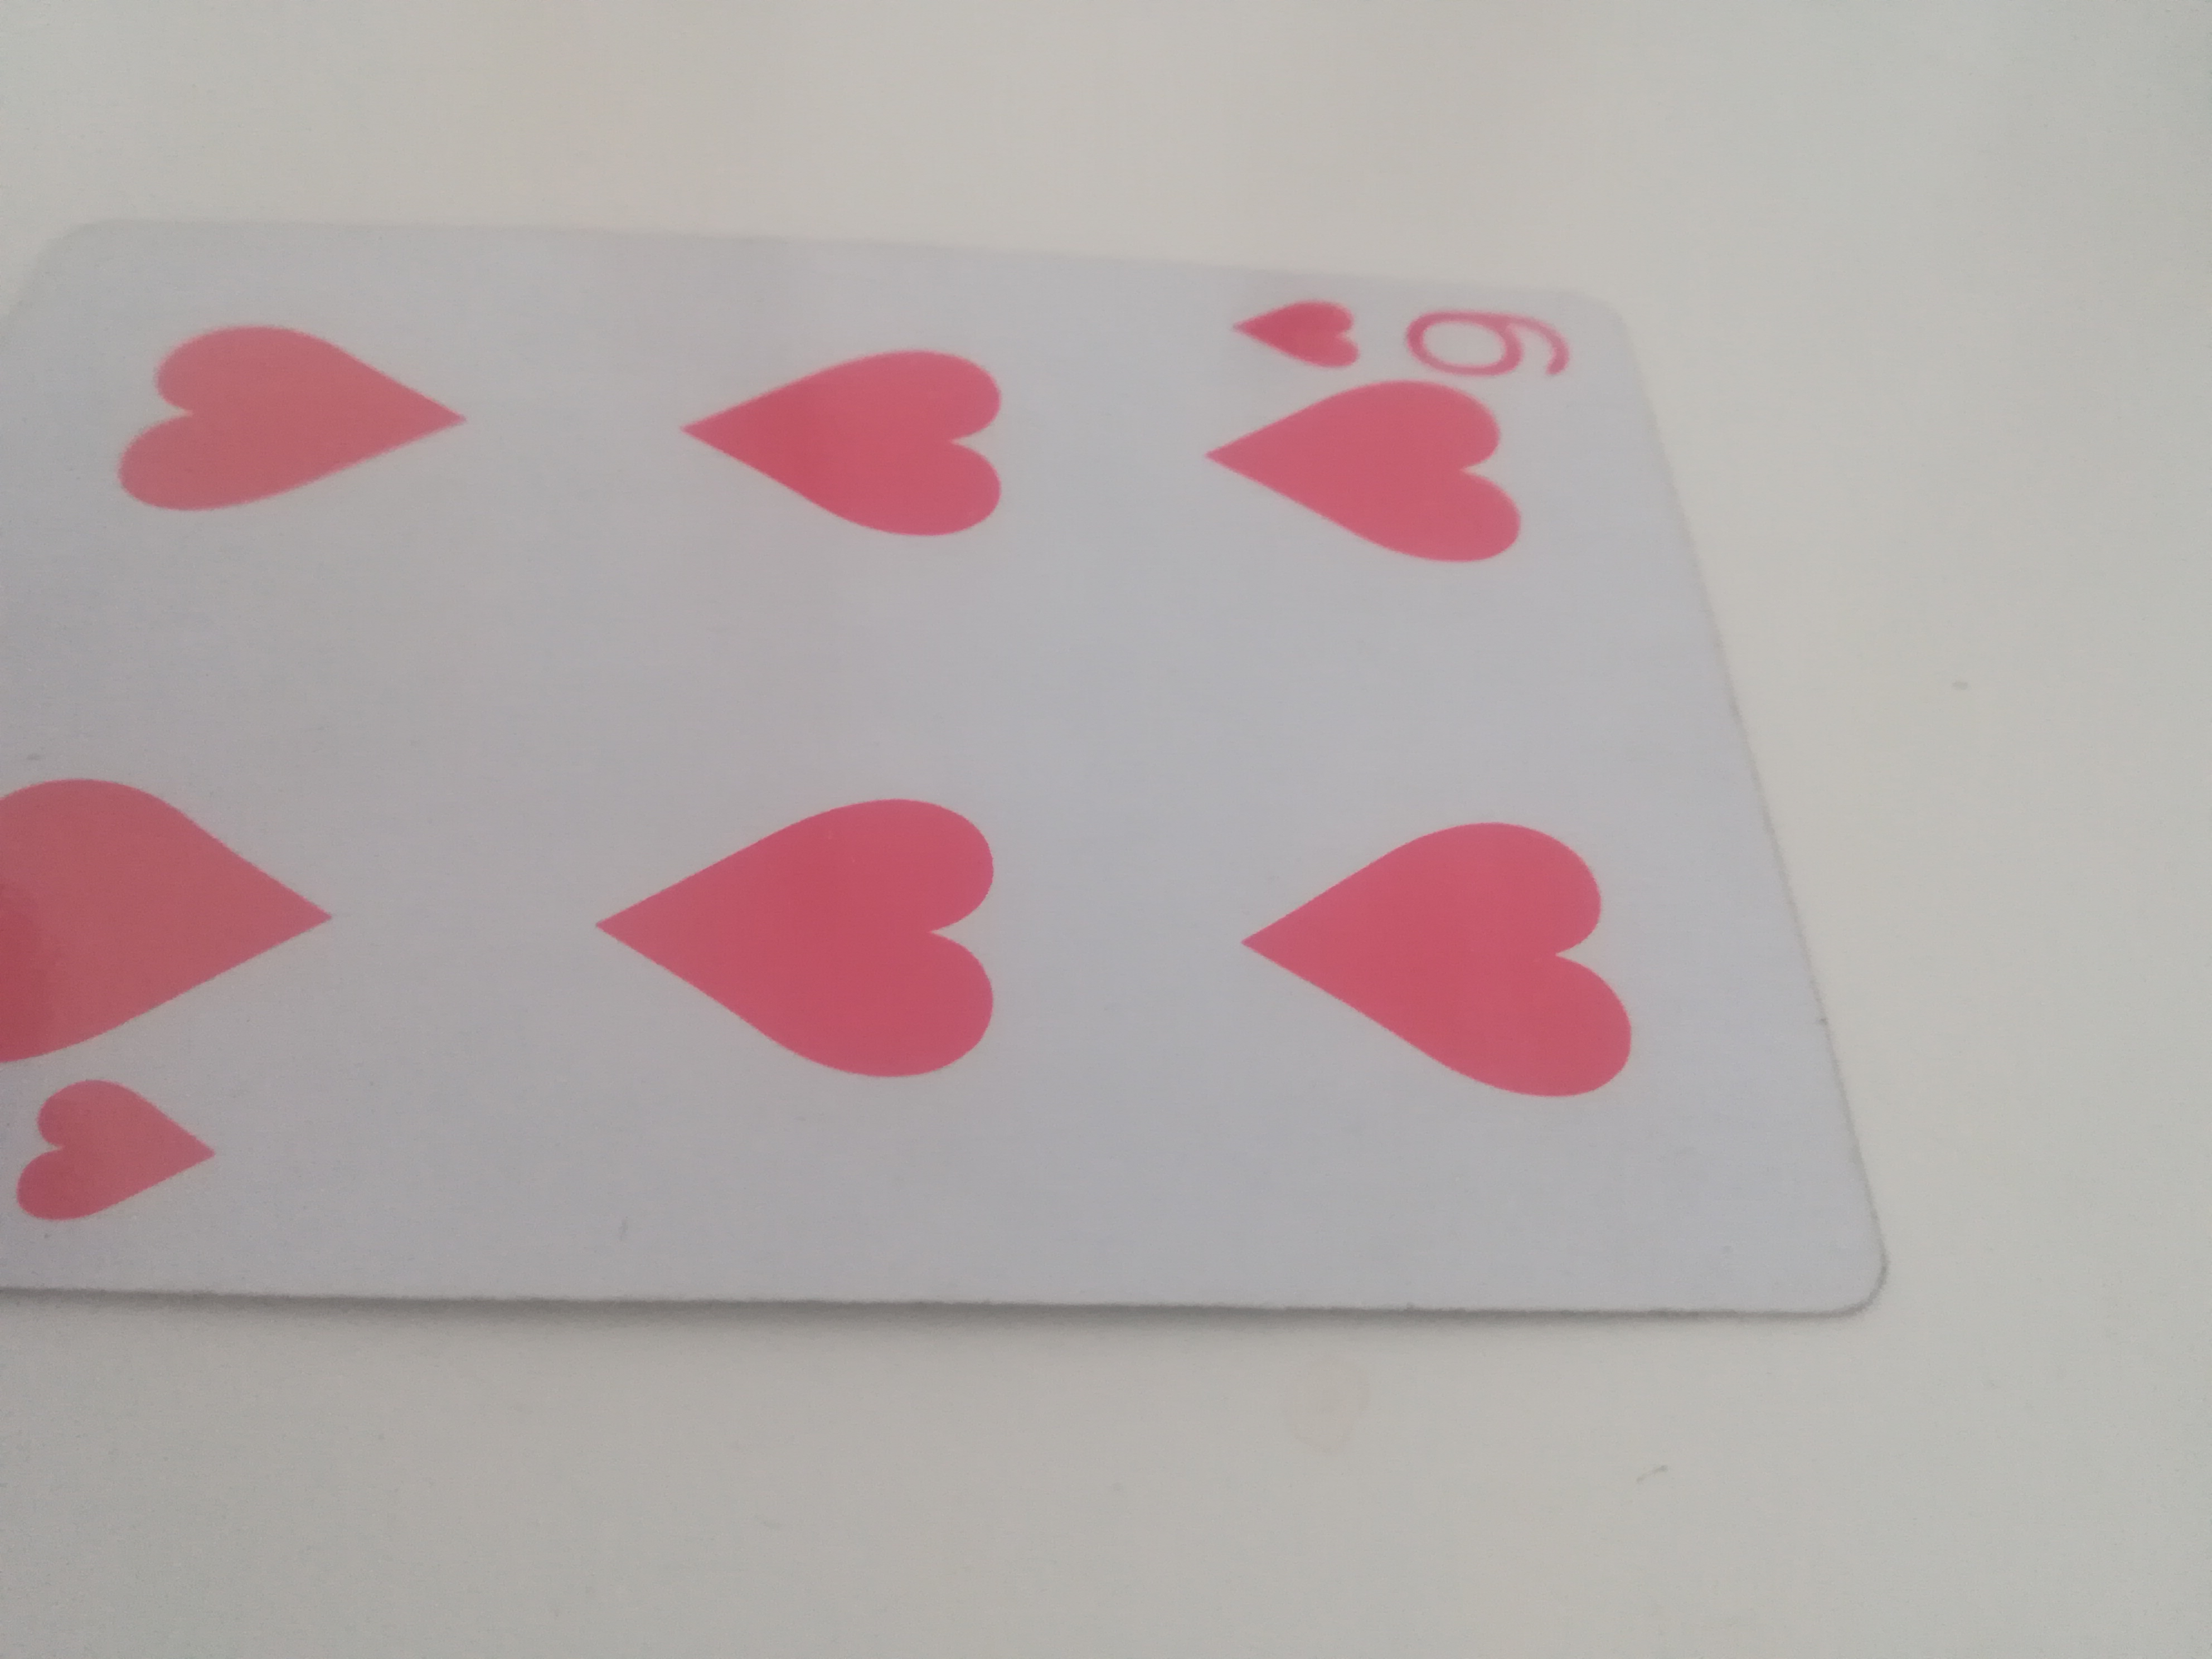6H: (0, 211, 1907, 1349)
